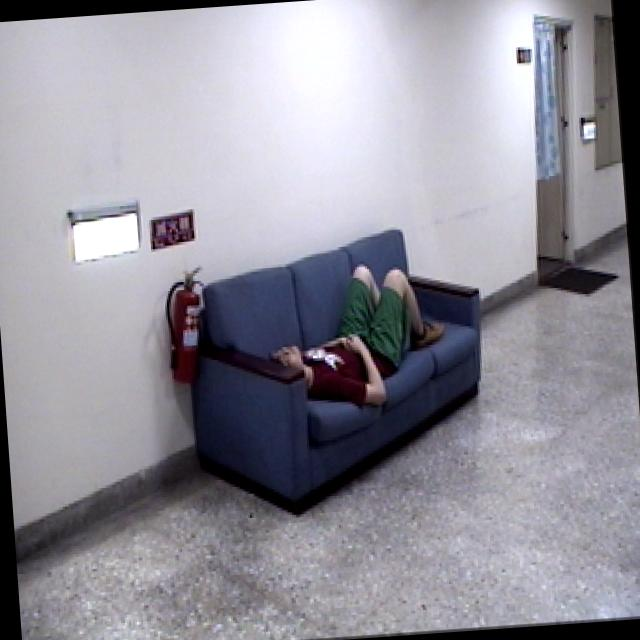lie: (253, 254, 457, 421)
